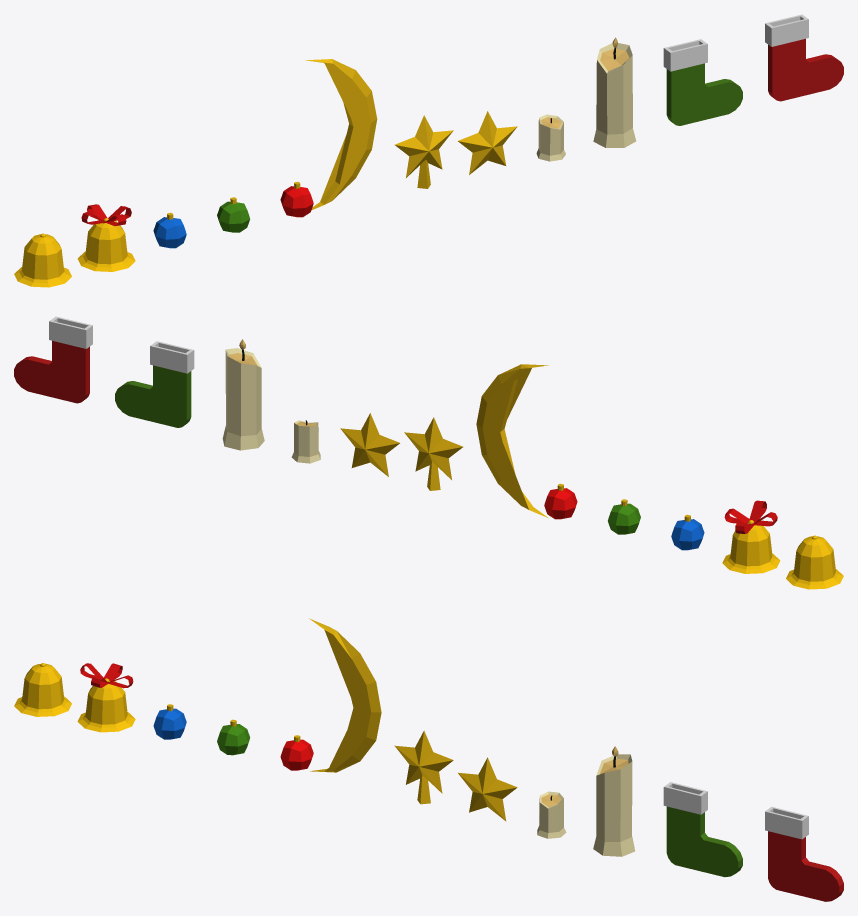
File: Props.fbx
The picture shows the model from 3 angles, top to bottom: view 1: azimuth 30°, elevation 25°; view 2: azimuth 150°, elevation 25°; view 3: azimuth 330°, elevation 25°; orthographic projection.
Visible parts, largest first — view 1: Sock_01, Sock_02, Moon_01, Candle_02_1, Bell_01, Bell_02, Star_01, Star_02, Candle_01, baubles_03, baubles_01, baubles_02; view 2: Sock_01, Sock_02, Moon_01, Candle_02_1, Bell_01, Bell_02, Star_01, Star_02, Candle_01, baubles_03, baubles_01, baubles_02; view 3: Sock_01, Sock_02, Moon_01, Candle_02_1, Bell_01, Bell_02, Star_01, Star_02, Candle_01, baubles_03, baubles_01, baubles_02.
Part boxes in pixels (x1=…): Sock_01: x1=663, y1=39, x2=742, y2=125; Sock_02: x1=765, y1=14, x2=843, y2=101; Moon_01: x1=306, y1=59, x2=377, y2=210; Candle_02_1: x1=593, y1=37, x2=636, y2=147; Bell_01: x1=77, y1=204, x2=135, y2=271; Bell_02: x1=14, y1=233, x2=71, y2=287; Star_01: x1=394, y1=115, x2=453, y2=188; Star_02: x1=458, y1=111, x2=517, y2=174; Candle_01: x1=536, y1=114, x2=565, y2=161; baubles_03: x1=153, y1=212, x2=186, y2=248; baubles_01: x1=280, y1=181, x2=313, y2=217; baubles_02: x1=217, y1=197, x2=249, y2=232; Sock_01: x1=115, y1=341, x2=194, y2=427; Sock_02: x1=14, y1=316, x2=92, y2=403; Moon_01: x1=476, y1=364, x2=548, y2=518; Candle_02_1: x1=222, y1=339, x2=264, y2=450; Bell_01: x1=722, y1=500, x2=780, y2=573; Bell_02: x1=786, y1=535, x2=843, y2=589; Star_01: x1=404, y1=417, x2=463, y2=490; Star_02: x1=340, y1=413, x2=399, y2=476; Candle_01: x1=291, y1=420, x2=320, y2=463; baubles_03: x1=671, y1=514, x2=704, y2=550; baubles_01: x1=544, y1=483, x2=577, y2=519; baubles_02: x1=608, y1=499, x2=640, y2=534; Sock_01: x1=663, y1=782, x2=742, y2=877; Sock_02: x1=765, y1=806, x2=843, y2=901; Moon_01: x1=309, y1=618, x2=381, y2=772; Candle_02_1: x1=593, y1=746, x2=635, y2=856; Bell_01: x1=77, y1=663, x2=135, y2=732; Bell_02: x1=14, y1=663, x2=71, y2=716; Star_01: x1=394, y1=730, x2=453, y2=804; Star_02: x1=458, y1=757, x2=517, y2=821; Candle_01: x1=537, y1=791, x2=566, y2=838; baubles_03: x1=153, y1=704, x2=186, y2=739; baubles_01: x1=280, y1=735, x2=313, y2=770; baubles_02: x1=217, y1=719, x2=250, y2=755.
Size of the model in its own units: 221 by 39.2 by 12.91.
Materials: 7 (7 with a texture image).
